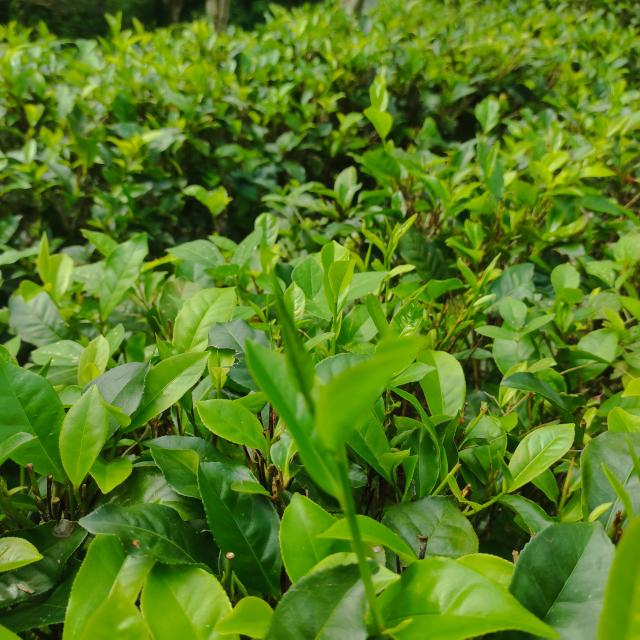unopened_leaf: (260, 270, 318, 416), (593, 458, 640, 532), (470, 251, 507, 305), (492, 442, 516, 494), (382, 453, 407, 502), (381, 210, 400, 252), (212, 347, 225, 374), (498, 385, 508, 415)
